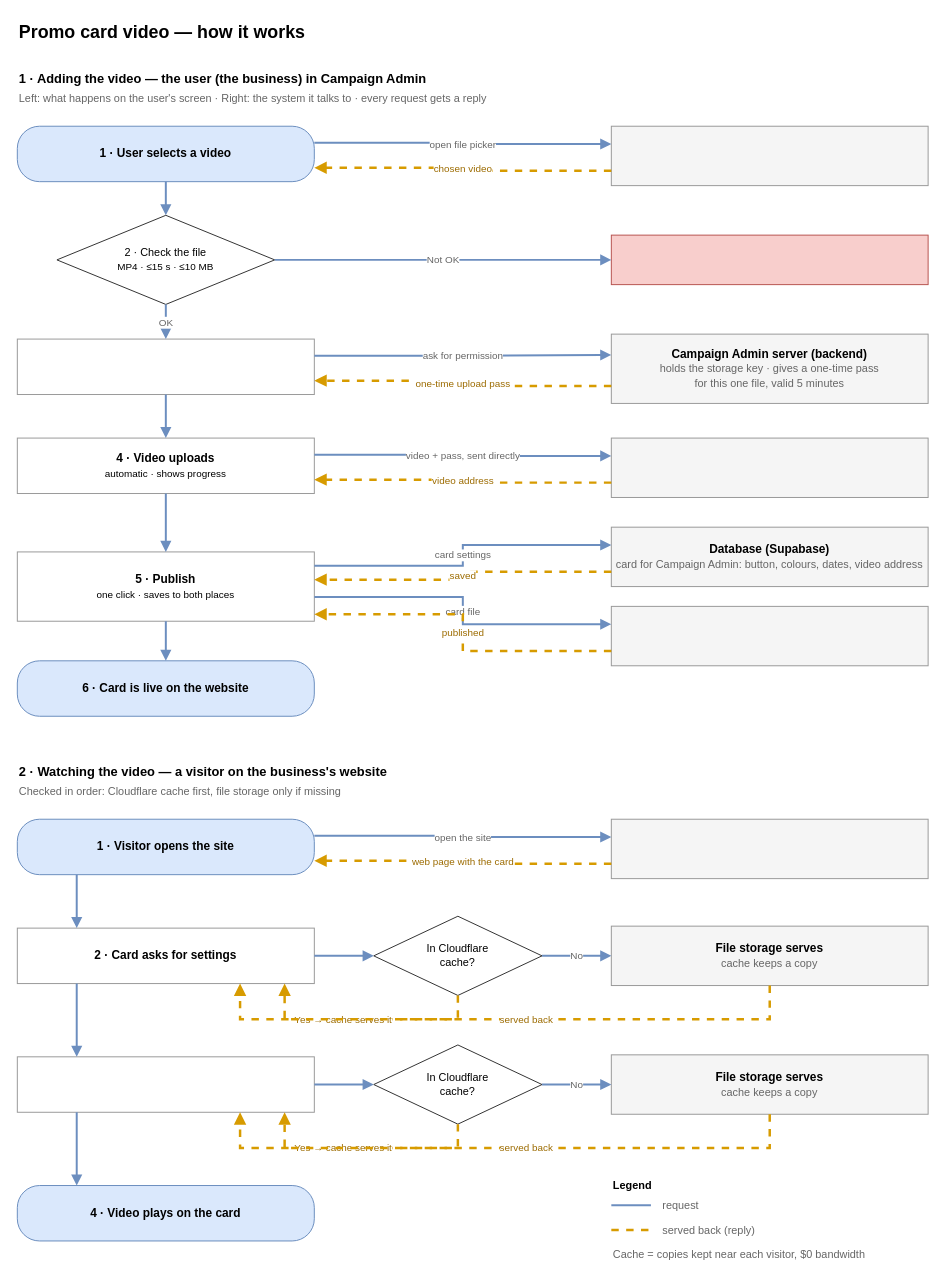
The diagram is 945 pixels wide and 1281 high, and some of its shapes have lost their labels. Here are the shapes that lost their labels. From the top down, the centre of each, then its label:
At (x=769, y=155): "User's device files on phone or laptop".
At (x=769, y=259): "Ask for a smaller file".
At (x=165, y=366): "3 · Get upload permission automatic · storage is locked, so a pass is needed".
At (x=769, y=467): "File storage (Cloudflare R2) checks the pass · keeps the video".
At (x=769, y=635): "File storage (Cloudflare R2) card file the website reads".
At (x=769, y=848): "Website host e.g. aairavx.com".
At (x=165, y=1084): "3 · Card asks for video".
